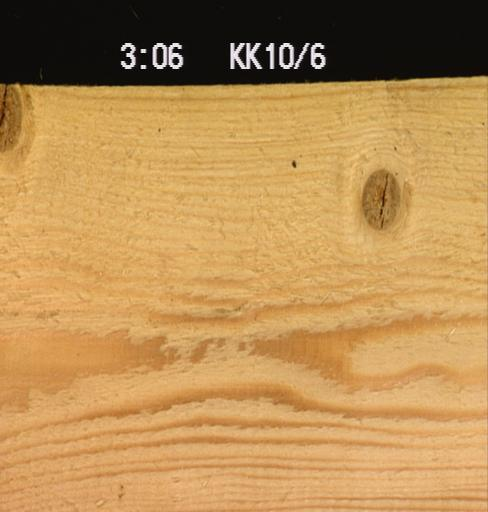edge_knot: (0, 82, 22, 152)
sound_knot: (359, 167, 400, 231)
